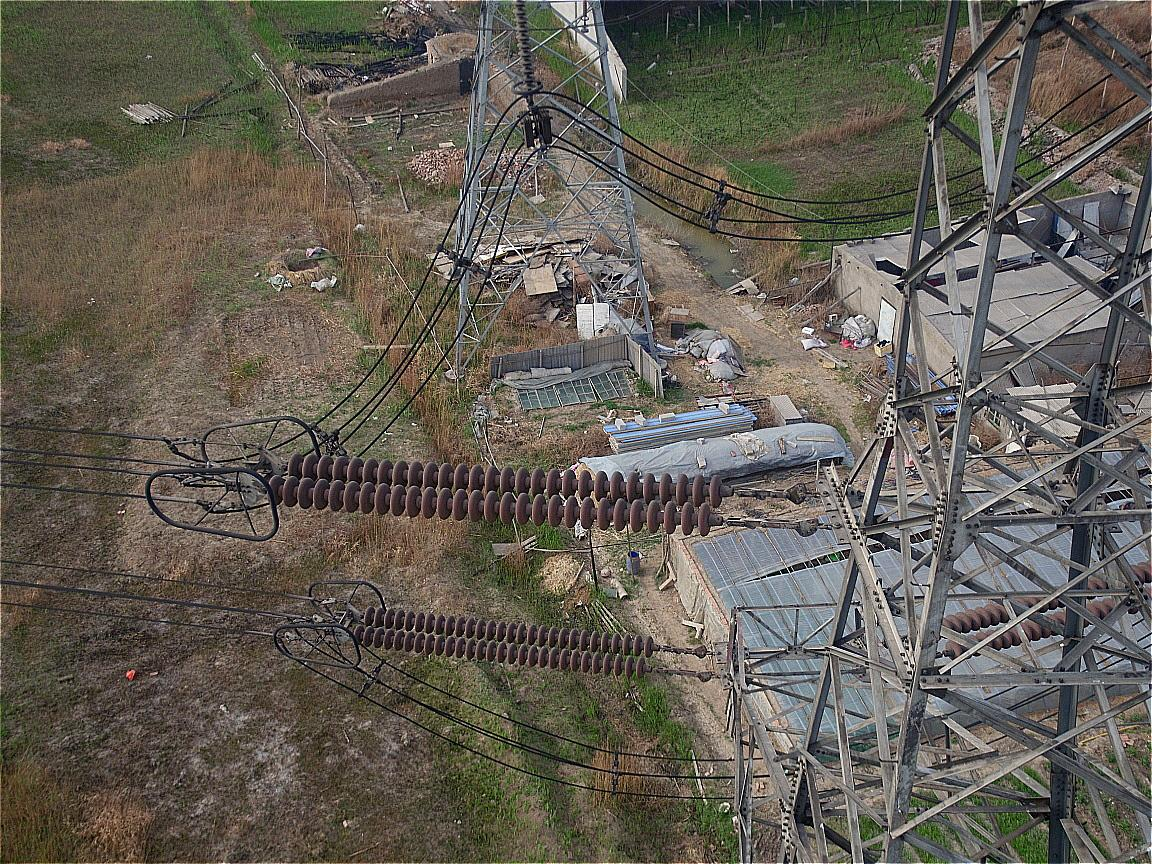insultor1: (248, 433, 753, 548), (334, 594, 679, 690)
